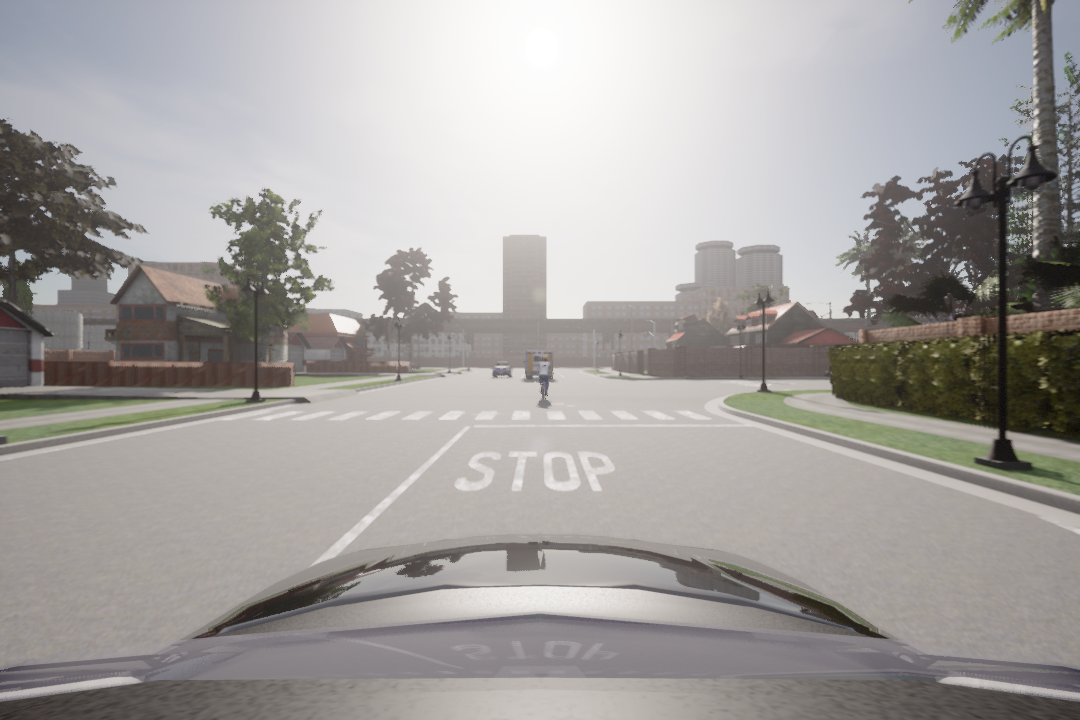walkside: (220, 402, 720, 422)
